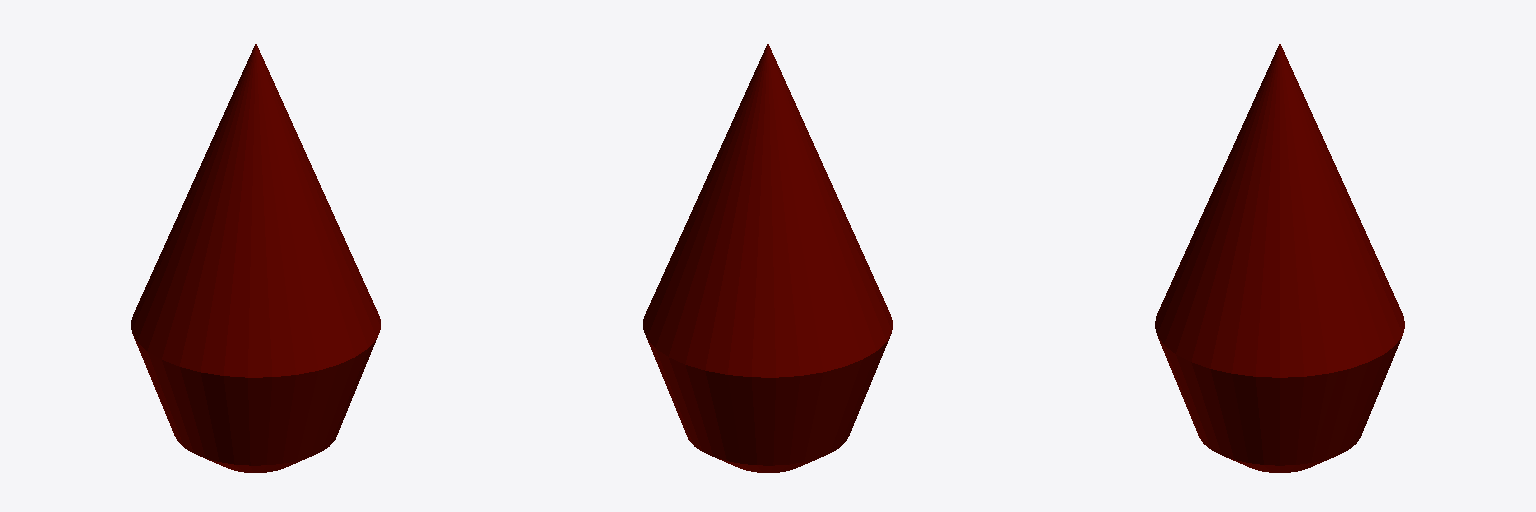
The model's file is Fireball.obj.
3 views of the same model, side by side, from view 1: azimuth 30°, elevation 25°; view 2: azimuth 150°, elevation 25°; view 3: azimuth 270°, elevation 25° (orthographic).
Visible parts, largest first — view 1: Cone; view 2: Cone; view 3: Cone.
Part boxes in pixels (bbox=[...]): Cone: bbox=[131, 44, 380, 472]; Cone: bbox=[643, 44, 892, 472]; Cone: bbox=[1155, 44, 1404, 472].
Size of the model in its own units: 0.0153 by 0.0286 by 0.0153.